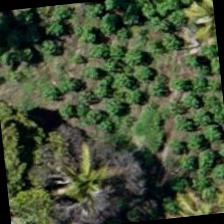Kelapa_Sawit: (52, 31, 151, 130), (49, 141, 148, 223), (135, 159, 223, 222), (160, 0, 221, 79)
